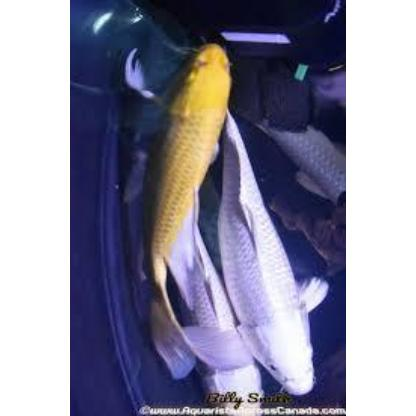ikan-mas: (84, 40, 236, 364), (208, 102, 326, 396)
